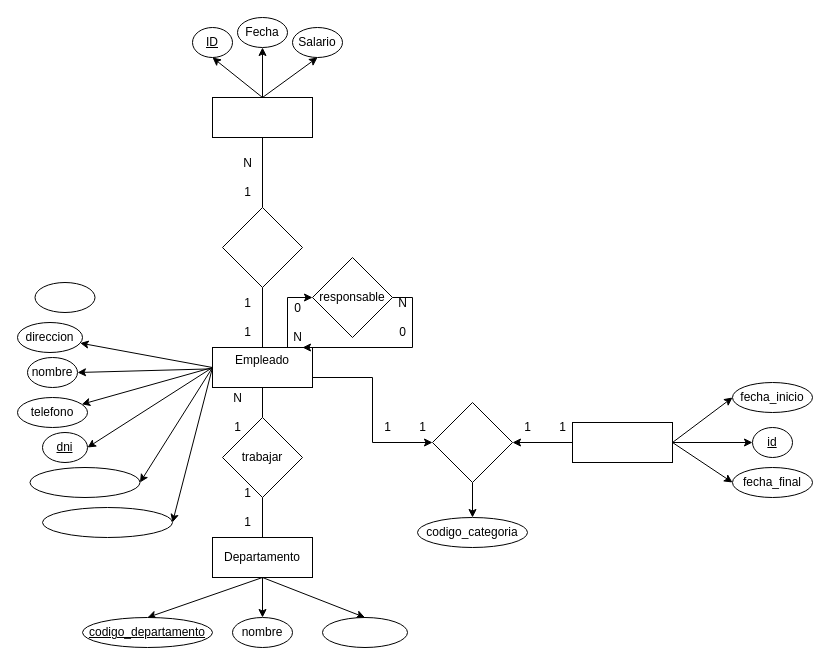
The diagram is 830 pixels wide and 665 high, and some of its shapes have lost their labels. Each missing label, with the box of its shape:
apellido: (34, 282, 95, 312)
codigo_trabajador: (29, 466, 140, 498)
Contrato: (572, 422, 672, 462)
coordinador: (322, 616, 408, 648)
cumple: (432, 402, 512, 482)
Nomina: (212, 96, 312, 138)
num_seguridad_social: (42, 506, 172, 538)
recibir: (222, 206, 302, 288)
